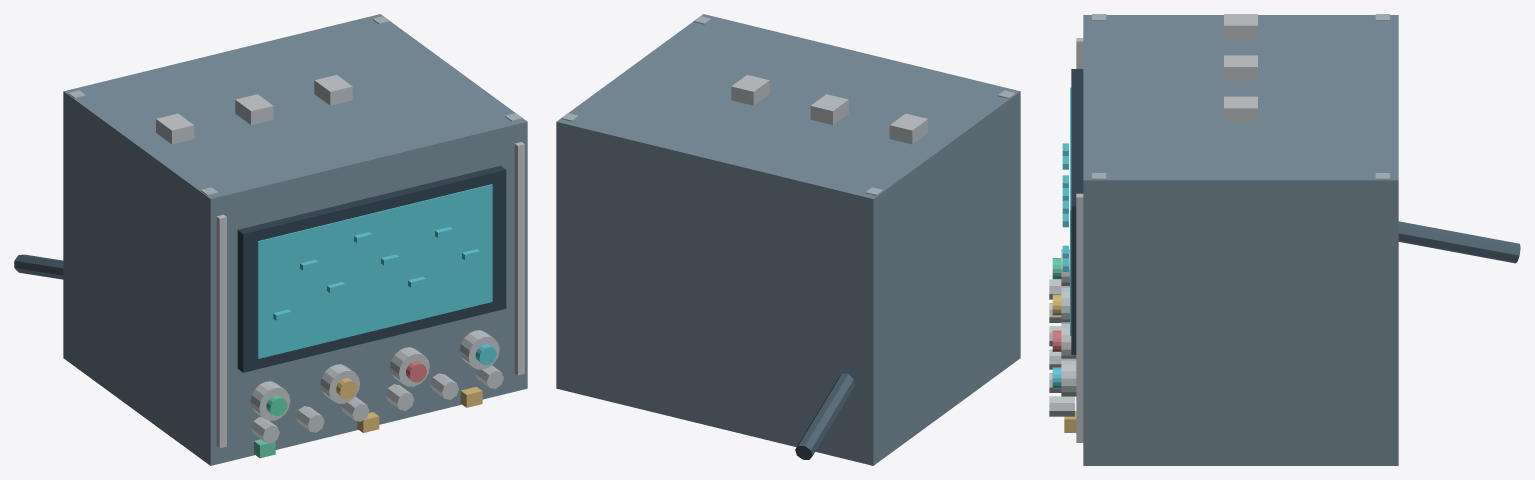
The model's file is 50_L80_MemoryOpticalLinkDiagnosticModule.glb.
3 renders of one model, left to right at view 1: azimuth 30°, elevation 25°; view 2: azimuth 150°, elevation 25°; view 3: azimuth 270°, elevation 25°, orthographic. The views are drawn at different scales.
Visible parts, largest first — view 1: MemoryOpticalLinkDiagnosticModule_Node_0000, MemoryOpticalLinkDiagnosticModule_Node_0008, MemoryOpticalLinkDiagnosticModule_Node_0007, MemoryOpticalLinkDiagnosticModule_Node_0005, MemoryOpticalLinkDiagnosticModule_Node_0006, MemoryOpticalLinkDiagnosticModule_Node_0034, MemoryOpticalLinkDiagnosticModule_Node_0025, MemoryOpticalLinkDiagnosticModule_Node_0026, MemoryOpticalLinkDiagnosticModule_Node_0027, MemoryOpticalLinkDiagnosticModule_Node_0017, MemoryOpticalLinkDiagnosticModule_Node_0019, MemoryOpticalLinkDiagnosticModule_Node_0021 (+5 smaller); view 2: MemoryOpticalLinkDiagnosticModule_Node_0000, MemoryOpticalLinkDiagnosticModule_Node_0034, MemoryOpticalLinkDiagnosticModule_Node_0025, MemoryOpticalLinkDiagnosticModule_Node_0027, MemoryOpticalLinkDiagnosticModule_Node_0026; view 3: MemoryOpticalLinkDiagnosticModule_Node_0000, MemoryOpticalLinkDiagnosticModule_Node_0007, MemoryOpticalLinkDiagnosticModule_Node_0034, MemoryOpticalLinkDiagnosticModule_Node_0006, MemoryOpticalLinkDiagnosticModule_Node_0027, MemoryOpticalLinkDiagnosticModule_Node_0025, MemoryOpticalLinkDiagnosticModule_Node_0026, MemoryOpticalLinkDiagnosticModule_Node_0023, MemoryOpticalLinkDiagnosticModule_Node_0033, MemoryOpticalLinkDiagnosticModule_Node_0008.
Boxes of the visible parts, left/top/right/bottom form: MemoryOpticalLinkDiagnosticModule_Node_0000: left=63, top=14, right=527, bottom=465; MemoryOpticalLinkDiagnosticModule_Node_0008: left=257, top=184, right=492, bottom=358; MemoryOpticalLinkDiagnosticModule_Node_0007: left=237, top=165, right=506, bottom=372; MemoryOpticalLinkDiagnosticModule_Node_0005: left=216, top=214, right=226, bottom=447; MemoryOpticalLinkDiagnosticModule_Node_0006: left=514, top=142, right=524, bottom=375; MemoryOpticalLinkDiagnosticModule_Node_0034: left=14, top=254, right=63, bottom=279; MemoryOpticalLinkDiagnosticModule_Node_0025: left=156, top=113, right=194, bottom=144; MemoryOpticalLinkDiagnosticModule_Node_0026: left=235, top=94, right=273, bottom=124; MemoryOpticalLinkDiagnosticModule_Node_0027: left=314, top=75, right=352, bottom=105; MemoryOpticalLinkDiagnosticModule_Node_0017: left=250, top=381, right=290, bottom=420; MemoryOpticalLinkDiagnosticModule_Node_0019: left=320, top=364, right=359, bottom=403; MemoryOpticalLinkDiagnosticModule_Node_0021: left=390, top=347, right=429, bottom=386; MemoryOpticalLinkDiagnosticModule_Node_0000: left=556, top=14, right=1020, bottom=465; MemoryOpticalLinkDiagnosticModule_Node_0034: left=795, top=373, right=854, bottom=459; MemoryOpticalLinkDiagnosticModule_Node_0025: left=889, top=113, right=927, bottom=144; MemoryOpticalLinkDiagnosticModule_Node_0027: left=731, top=75, right=769, bottom=105; MemoryOpticalLinkDiagnosticModule_Node_0026: left=810, top=94, right=848, bottom=124; MemoryOpticalLinkDiagnosticModule_Node_0000: left=1083, top=15, right=1398, bottom=465; MemoryOpticalLinkDiagnosticModule_Node_0007: left=1071, top=69, right=1083, bottom=354; MemoryOpticalLinkDiagnosticModule_Node_0034: left=1398, top=221, right=1520, bottom=263; MemoryOpticalLinkDiagnosticModule_Node_0006: left=1076, top=193, right=1083, bottom=442; MemoryOpticalLinkDiagnosticModule_Node_0027: left=1224, top=96, right=1257, bottom=123; MemoryOpticalLinkDiagnosticModule_Node_0025: left=1224, top=14, right=1257, bottom=40; MemoryOpticalLinkDiagnosticModule_Node_0026: left=1224, top=55, right=1257, bottom=81; MemoryOpticalLinkDiagnosticModule_Node_0023: left=1061, top=358, right=1076, bottom=396; MemoryOpticalLinkDiagnosticModule_Node_0033: left=1049, top=396, right=1074, bottom=416; MemoryOpticalLinkDiagnosticModule_Node_0008: left=1070, top=87, right=1071, bottom=335.
Size of the model in its own units: 0.92 by 0.7786 by 1.11.
